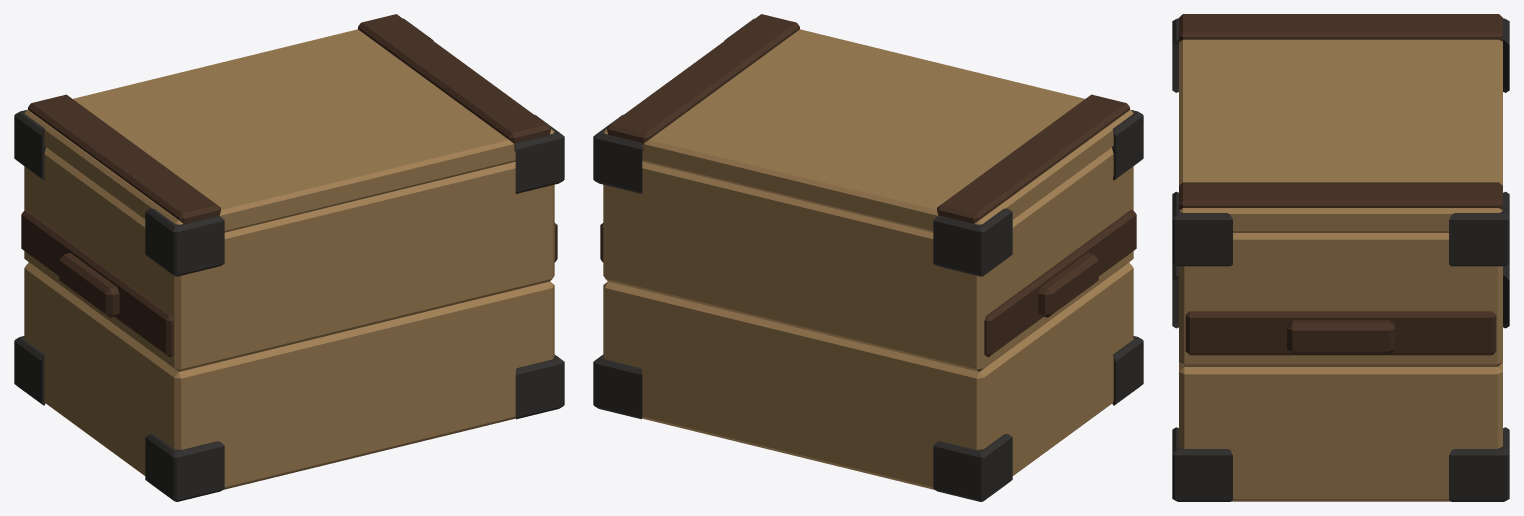
File: packing_crate.glb
3 views of the same model, side by side, from view 1: azimuth 30°, elevation 25°; view 2: azimuth 150°, elevation 25°; view 3: azimuth 270°, elevation 25° (orthographic). The views are drawn at different scales.
Visible parts, largest first — view 1: packing_crate; view 2: packing_crate; view 3: packing_crate.
Boxes of the visible parts, <box> form: packing_crate: <box>14,14,564,501</box>; packing_crate: <box>593,14,1143,501</box>; packing_crate: <box>1172,14,1509,501</box>.
Bounding box in the file's own units: 0.74 × 0.49 × 0.5.
